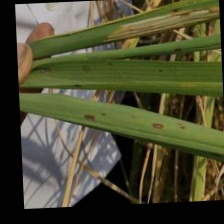Bacterial_Leaf_Blight: (144, 121, 167, 131), (78, 112, 98, 122), (176, 121, 189, 130), (169, 46, 183, 54), (80, 63, 90, 73), (156, 66, 165, 73)
